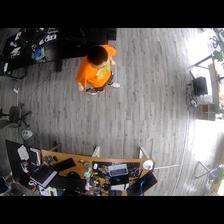normal: (76, 43, 121, 96)
